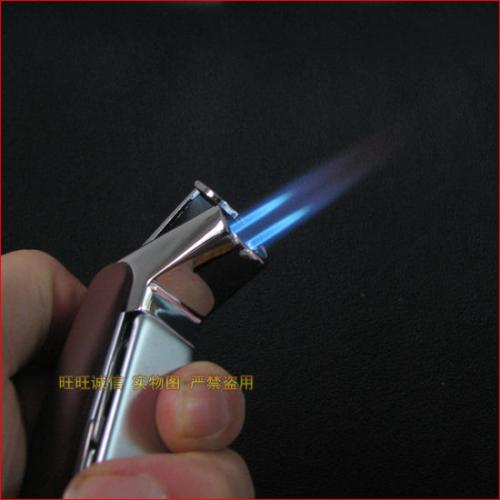fire: (215, 143, 367, 269)
